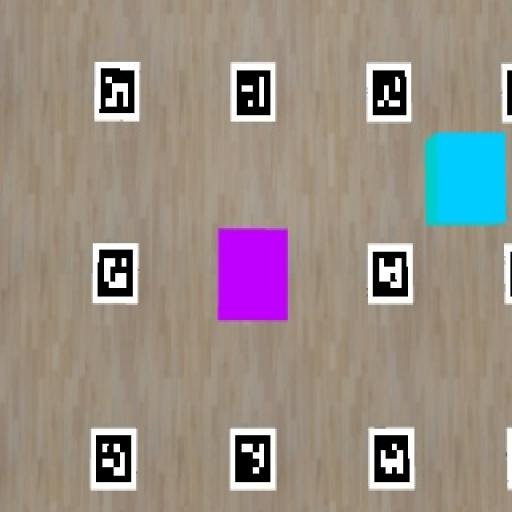car: (426, 133, 507, 226), (218, 229, 287, 322)
